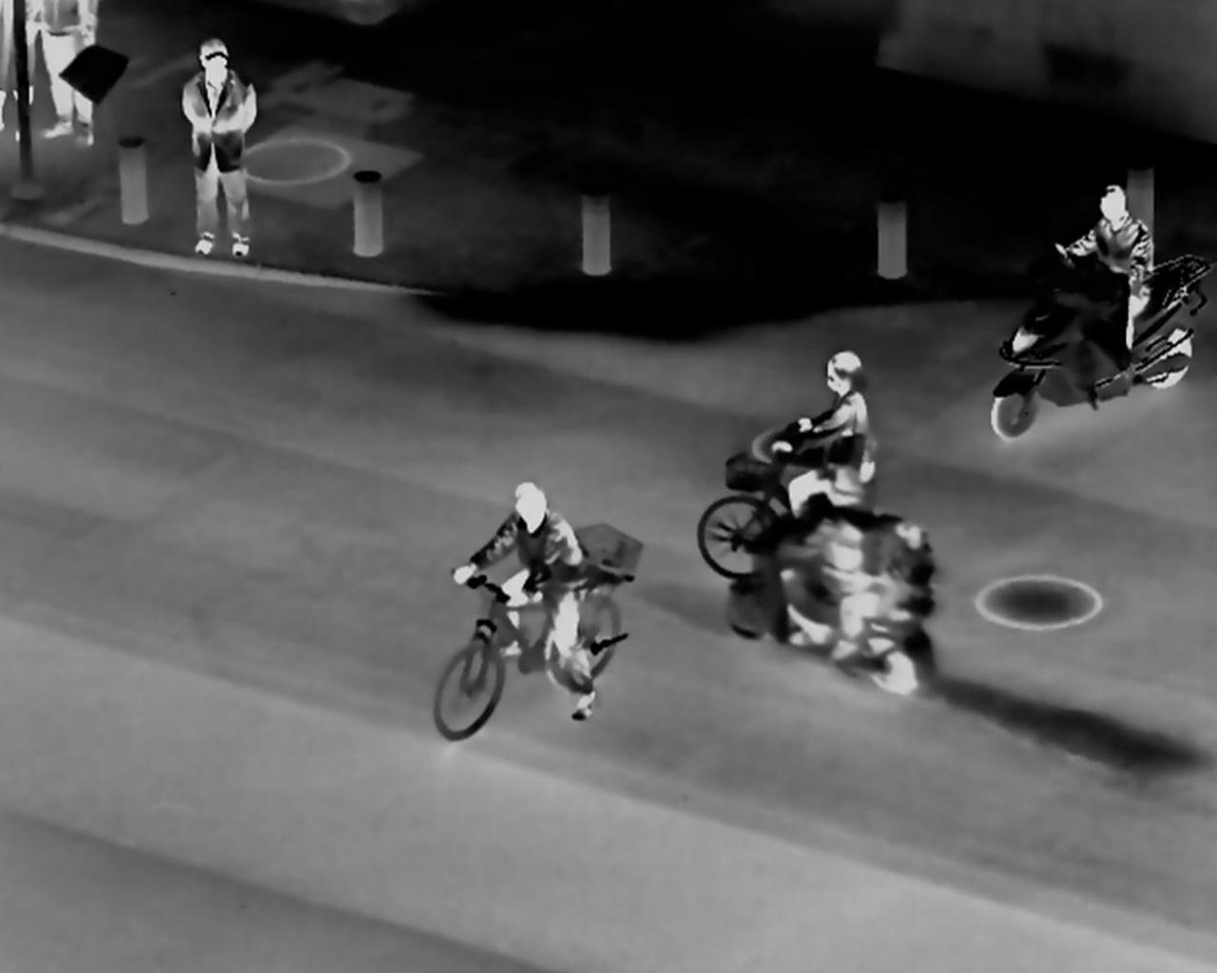person: (453, 468, 606, 724), (176, 31, 259, 264), (772, 343, 881, 512), (1059, 176, 1156, 363), (799, 463, 881, 651), (864, 503, 939, 677)
